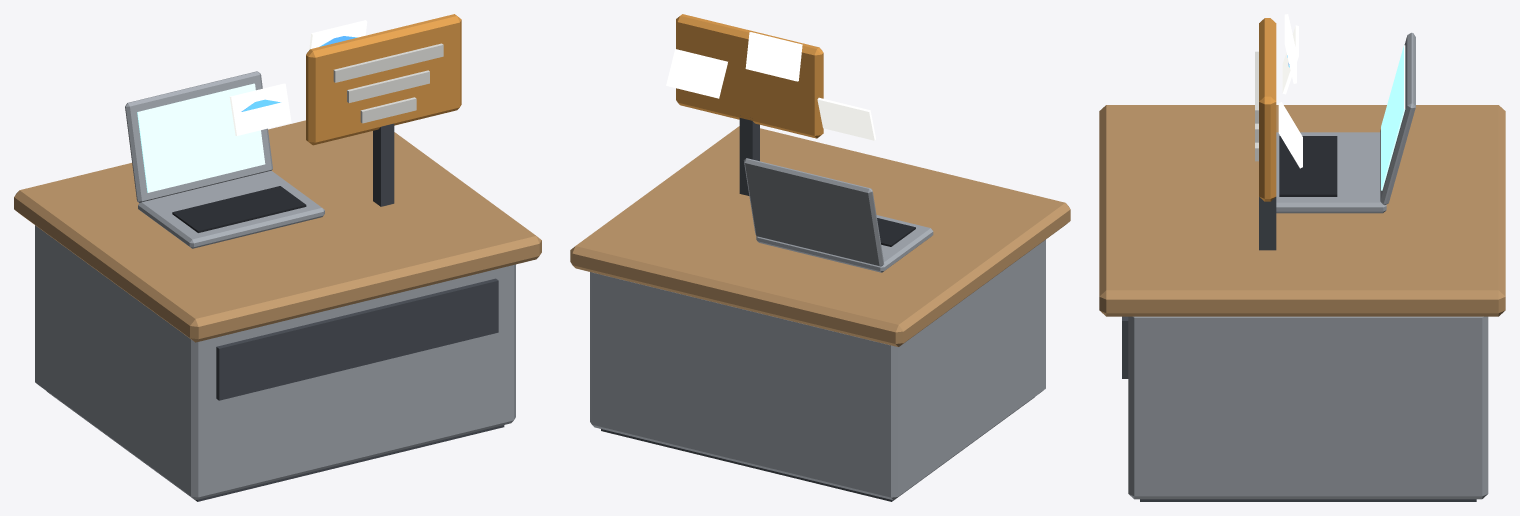
Rendered from autoreply_p0_3.glb.
The picture shows the model from 3 angles, left to right: view 1: azimuth 30°, elevation 25°; view 2: azimuth 150°, elevation 25°; view 3: azimuth 270°, elevation 25°; orthographic projection. The views are drawn at different scales.
Parts seen in each view (by area): view 1: autoreply_p0_3_mesh_Desk, autoreply_p0_3_mesh; view 2: autoreply_p0_3_mesh_Desk, autoreply_p0_3_mesh; view 3: autoreply_p0_3_mesh_Desk, autoreply_p0_3_mesh.
Part boxes in pixels (x1,y1,x2,y2): autoreply_p0_3_mesh_Desk: (14,120,541,501); autoreply_p0_3_mesh: (125,14,461,248); autoreply_p0_3_mesh_Desk: (570,126,1070,501); autoreply_p0_3_mesh: (666,14,933,272); autoreply_p0_3_mesh_Desk: (1099,105,1505,501); autoreply_p0_3_mesh: (1255,14,1415,250).
Bounding box in the file's own units: 0.78 × 0.7968 × 0.7.
